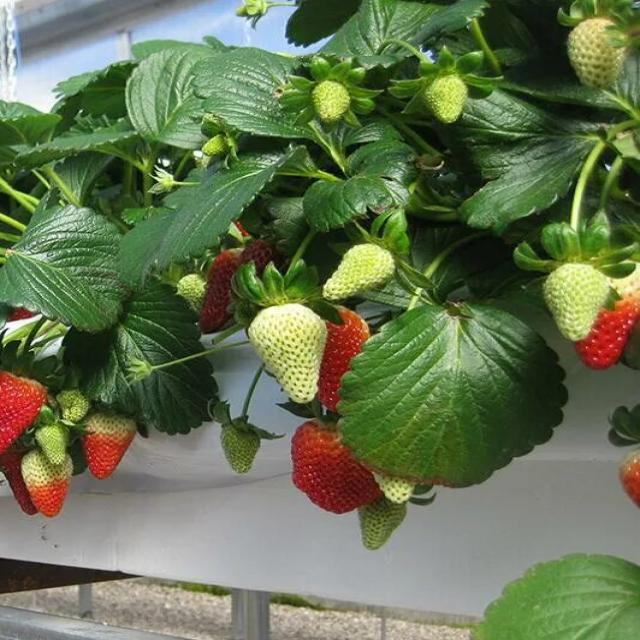Ripe Strawberry: (292, 424, 382, 514), (321, 303, 368, 408), (0, 372, 45, 448), (202, 252, 244, 326), (240, 244, 280, 272), (8, 307, 32, 322)
